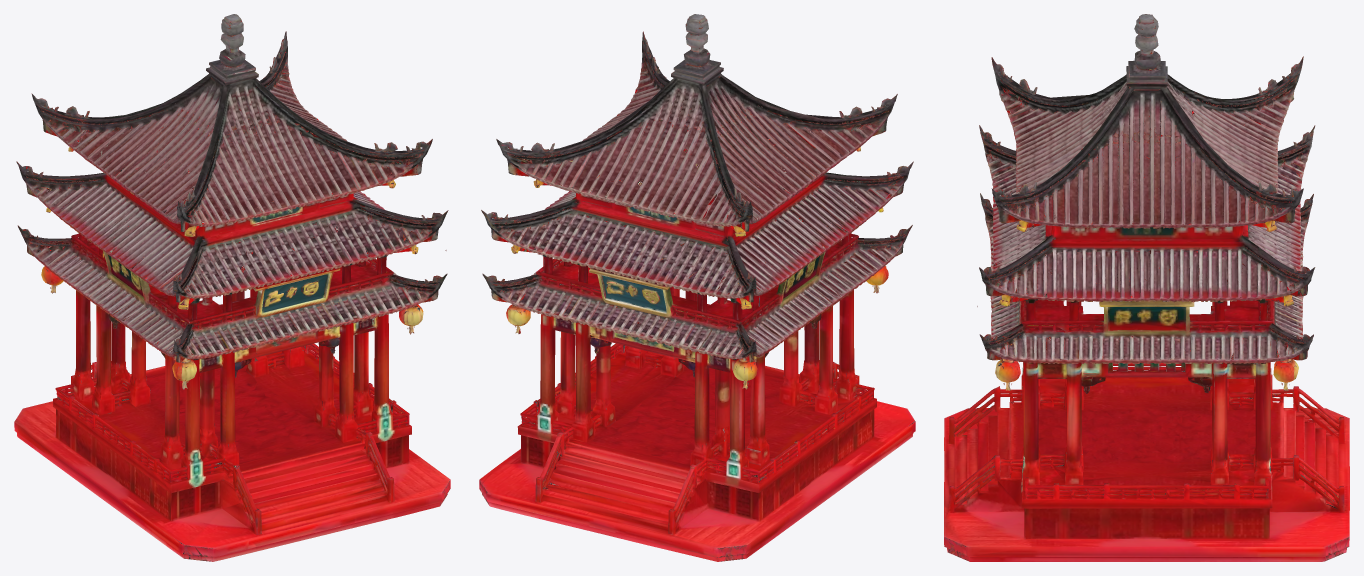
The model's file is bq_library_pagoda.hd.glb.
3 views of the same model, side by side, from view 1: azimuth 30°, elevation 25°; view 2: azimuth 150°, elevation 25°; view 3: azimuth 270°, elevation 25° (orthographic). The views are drawn at different scales.
Size of the model in its own units: 1.21 by 1.89 by 1.46.
Materials: 1 (1 with a texture image).
